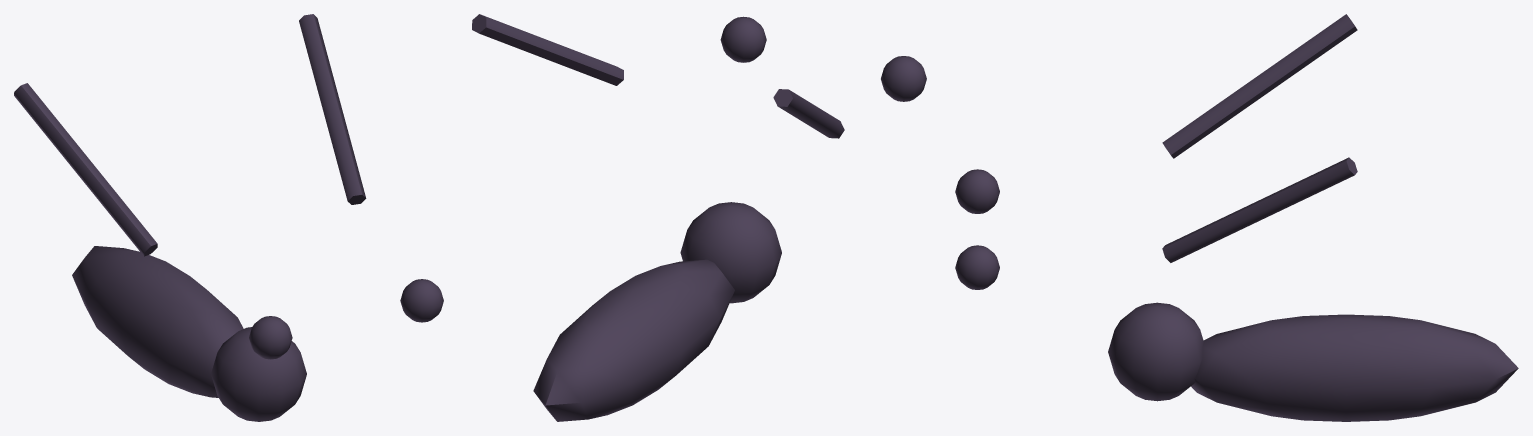
File: butterfly_body.glb
3 renders of one model, left to right at view 1: azimuth 30°, elevation 25°; view 2: azimuth 150°, elevation 25°; view 3: azimuth 270°, elevation 25°, orthographic. The views are drawn at different scales.
Parts seen in each view (by area): view 1: butterfly_body; view 2: butterfly_body; view 3: butterfly_body.
Part boxes in pixels (left/top/right/bottom): butterfly_body: left=14, top=14, right=443, bottom=421; butterfly_body: left=472, top=14, right=926, bottom=421; butterfly_body: left=955, top=14, right=1518, bottom=421.
Bounding box in the file's own units: 0.0801 × 0.0809 × 0.1254.
